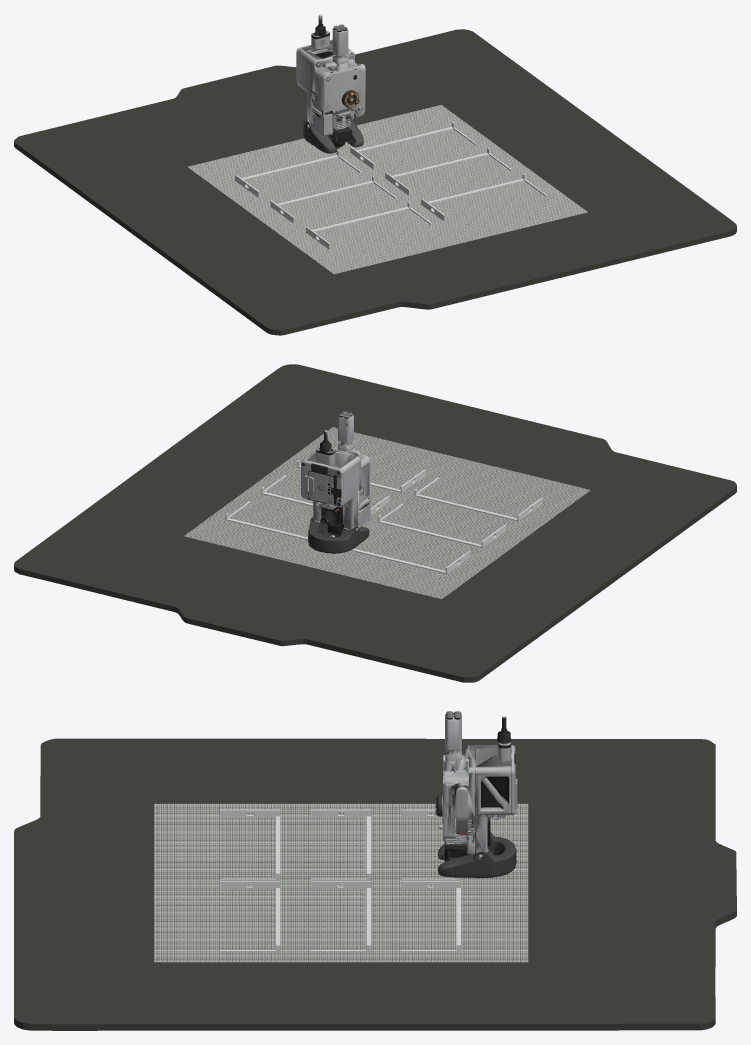
Rendered from printing.glb.
3 renders of one model, top to bottom at view 1: azimuth 30°, elevation 25°; view 2: azimuth 150°, elevation 25°; view 3: azimuth 270°, elevation 25°, orthographic. The views are drawn at different scales.
Parts seen in each view (by area): view 1: PEI bed, SEFAR, a1miniv1, 3D028_test7_insertAv3.003, 3D028_test7_insertAv3.004, 3D028_test7_insertAv3.001, 3D028_test7_insertAv3.002, 3D028_test7_insertAv3.005, 3D028_test7_insertAv3; view 2: PEI bed, SEFAR, a1miniv1, 3D028_test7_insertAv3, 3D028_test7_insertAv3.001, 3D028_test7_insertAv3.002; view 3: PEI bed, SEFAR, a1miniv1, 3D028_test7_insertAv3.003, 3D028_test7_insertAv3, 3D028_test7_insertAv3.004, 3D028_test7_insertAv3.001, 3D028_test7_insertAv3.005.
Boxes of the visible parts, box(x1,y1,x2,y2) form: PEI bed: box(14, 29, 736, 335); SEFAR: box(187, 105, 587, 274); a1miniv1: box(296, 14, 365, 153); 3D028_test7_insertAv3.003: box(385, 147, 511, 195); 3D028_test7_insertAv3.004: box(421, 173, 547, 221); 3D028_test7_insertAv3.001: box(306, 201, 432, 249); 3D028_test7_insertAv3.002: box(235, 150, 361, 197); 3D028_test7_insertAv3.005: box(350, 122, 476, 169); 3D028_test7_insertAv3: box(270, 176, 396, 223); PEI bed: box(14, 364, 736, 682); SEFAR: box(184, 427, 590, 598); a1miniv1: box(301, 411, 370, 553); 3D028_test7_insertAv3: box(378, 504, 506, 547); 3D028_test7_insertAv3.001: box(414, 477, 542, 521); 3D028_test7_insertAv3.002: box(350, 548, 470, 573); PEI bed: box(14, 738, 736, 1030); SEFAR: box(154, 803, 528, 962); a1miniv1: box(435, 711, 517, 877); 3D028_test7_insertAv3.003: box(311, 881, 371, 952); 3D028_test7_insertAv3: box(311, 809, 371, 880); 3D028_test7_insertAv3.004: box(220, 881, 280, 952); 3D028_test7_insertAv3.001: box(220, 809, 280, 880); 3D028_test7_insertAv3.005: box(401, 881, 460, 952).
Size of the model in its own units: 180 by 51.12 by 193.
Materials: 3 (1 with a texture image).
